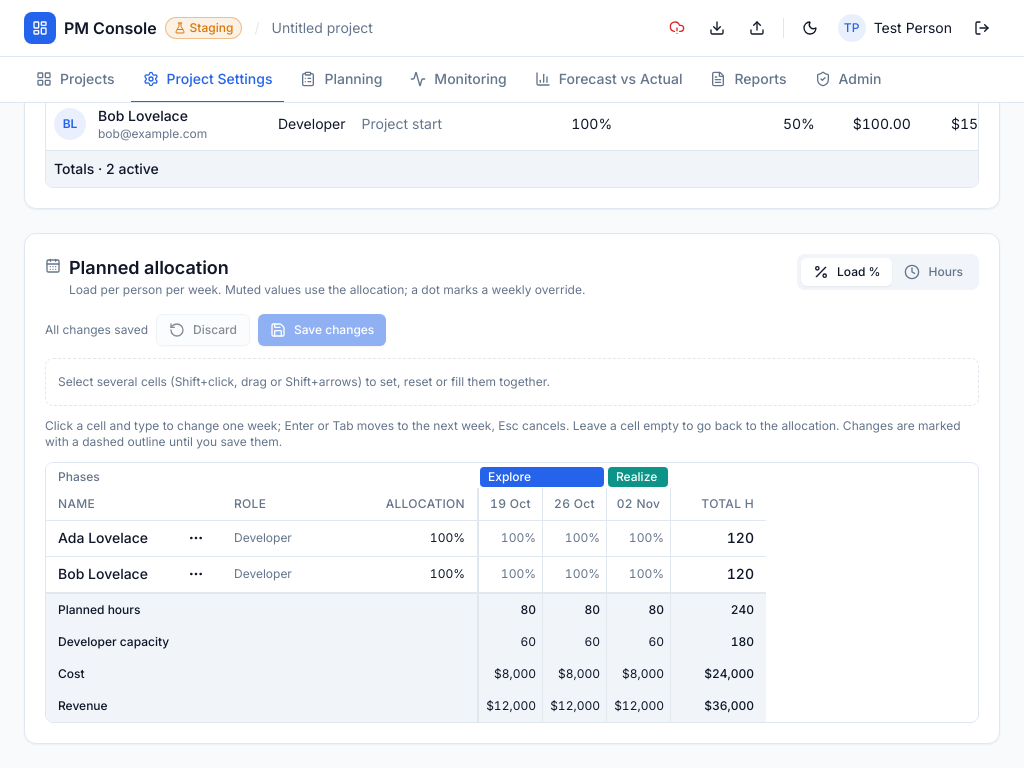
Test case: Planned allocation grid › Discard throws pending edits away
This screenshot has width=1024, height=768.
(page scrolled)
Click the 3rd cell "100%": (510, 538) [478,520,542,556]
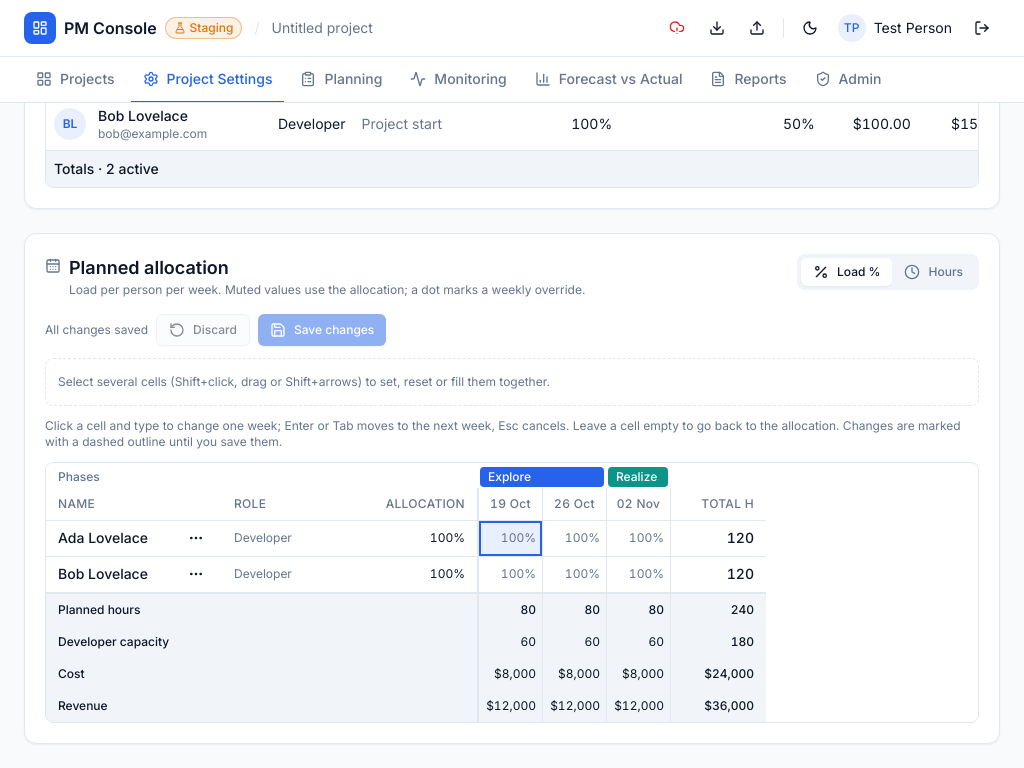
Type keys "20{Enter}30{Enter}"
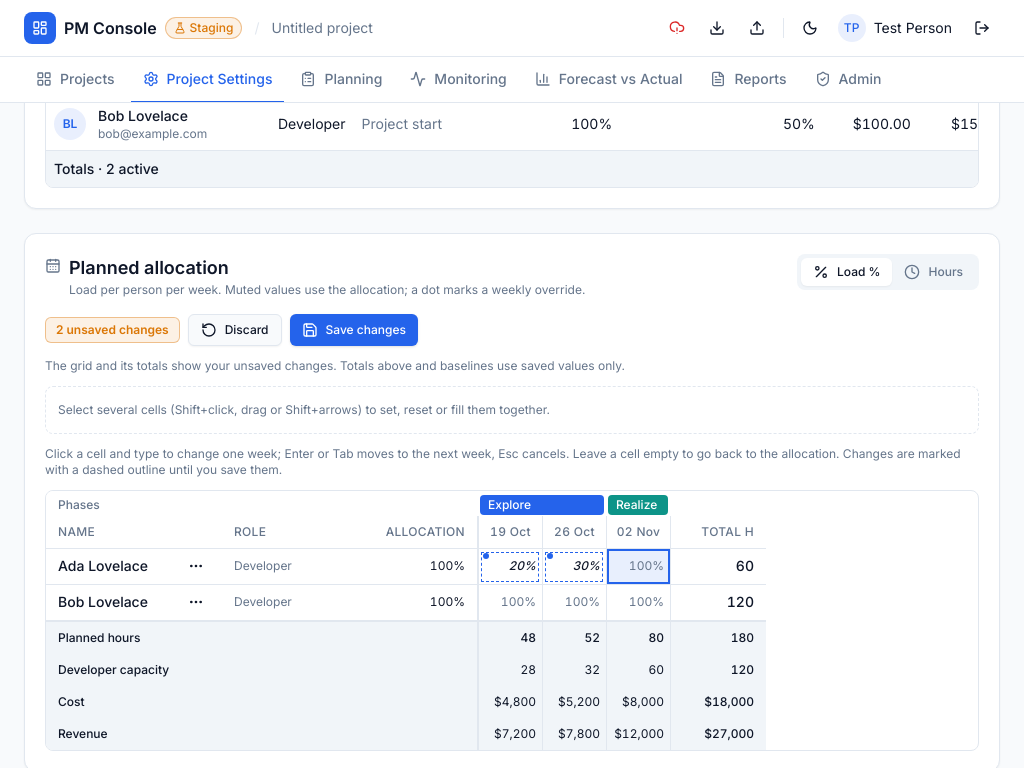
Result: the text "2 unsaved changes" is shown at [45,316,180,342]
Click the button "Discard": (235, 330) [188,314,282,346]
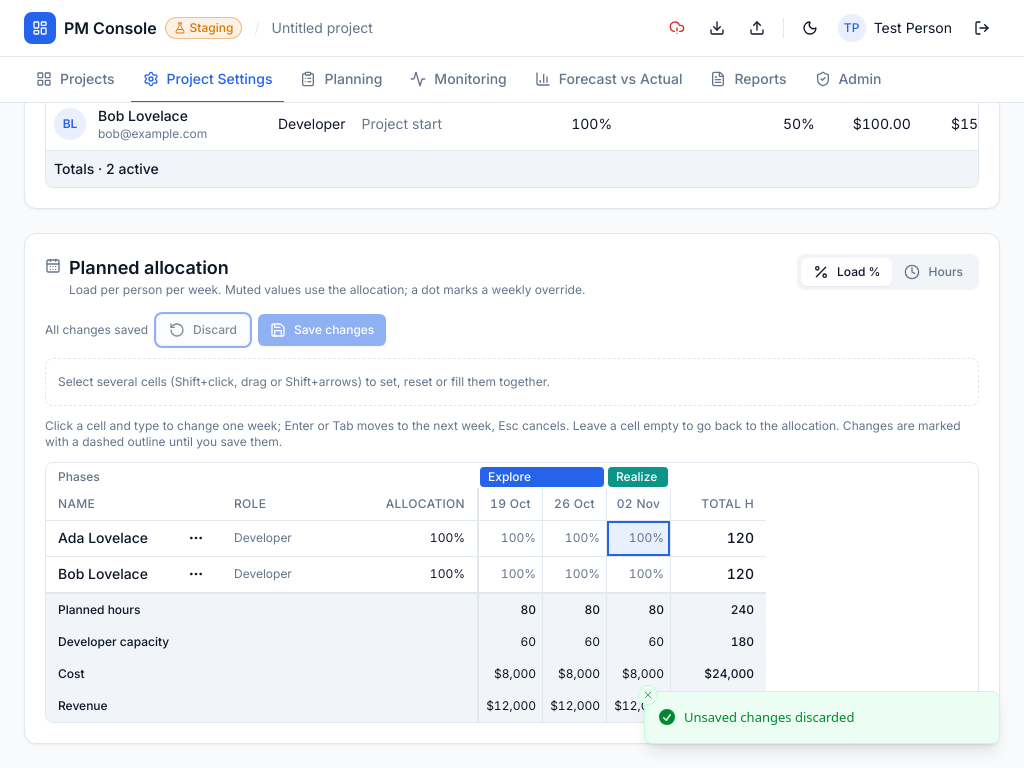
Result: the 3rd cell "100%" is shown at [478,520,542,556]
